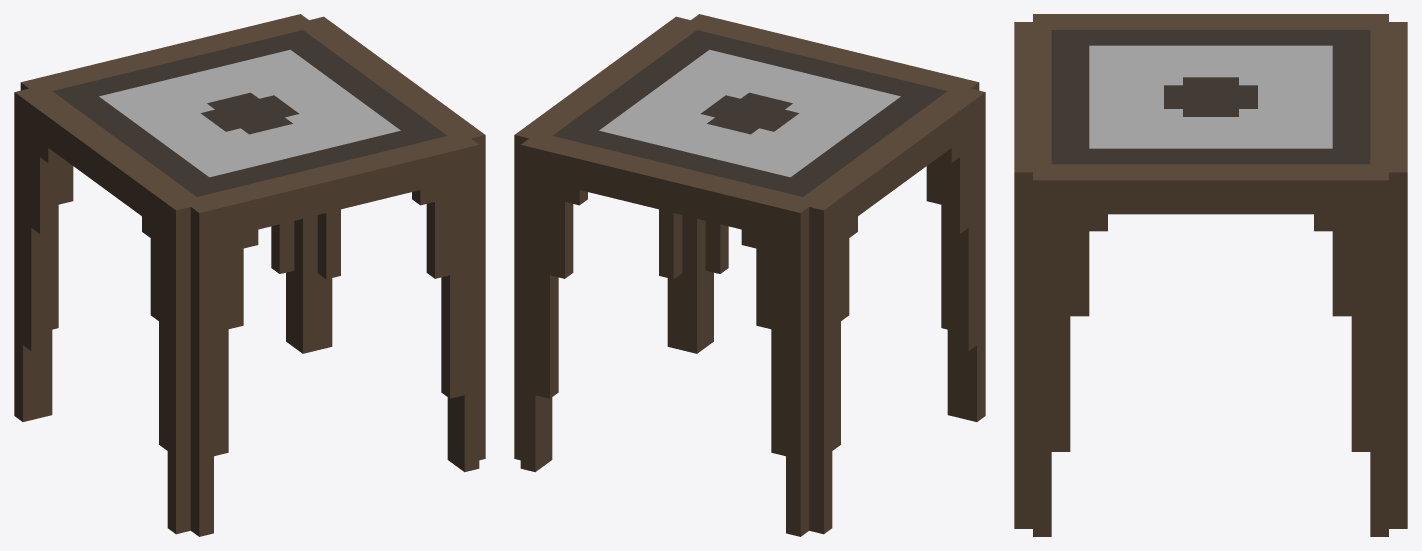
The model's file is tableSmall.obj.
3 views of the same model, side by side, from view 1: azimuth 30°, elevation 25°; view 2: azimuth 150°, elevation 25°; view 3: azimuth 270°, elevation 25° (orthographic). The views are drawn at different scales.
Visible parts, largest first — view 1: model_1; view 2: model_1; view 3: model_1.
Part boxes in pixels (x1,y1,x2,y2): model_1: (14,14,485,536); model_1: (514,14,985,536); model_1: (1014,14,1407,536).
Bounding box in the file's own units: 1 × 1 × 1.
